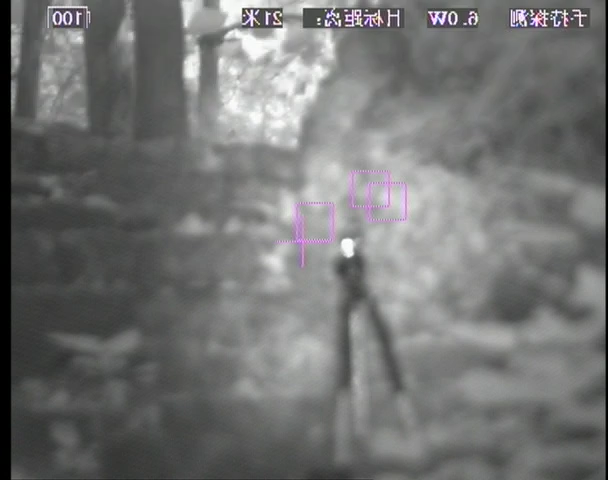my: (338, 237, 357, 258)
